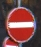No entry: (6, 6, 36, 42)
